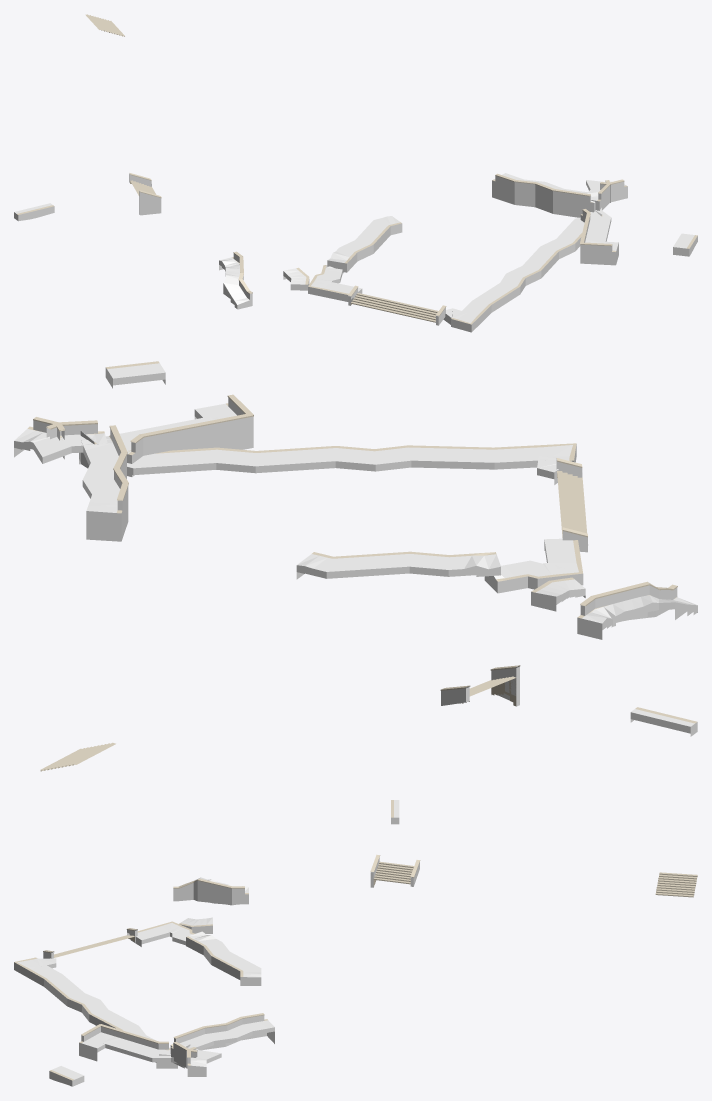
Rendered from SM_BM_BC_Works_2_3.glb.
3 renders of one model, top to bottom at view 1: azimuth 30°, elevation 25°; view 2: azimuth 150°, elevation 25°; view 3: azimuth 270°, elevation 25°, orthographic. The views are drawn at different scales.
Parts seen in each view (by area): view 1: SM_BM_BC_Works_2_3; view 2: SM_BM_BC_Works_2_3; view 3: SM_BM_BC_Works_2_3.
Boxes of the visible parts, x1,y1,x2,y2 form: SM_BM_BC_Works_2_3: (14, 14, 697, 332); SM_BM_BC_Works_2_3: (14, 361, 697, 771); SM_BM_BC_Works_2_3: (14, 800, 697, 1086).
Bounding box in the file's own units: 78.32 × 10.89 × 90.08.
